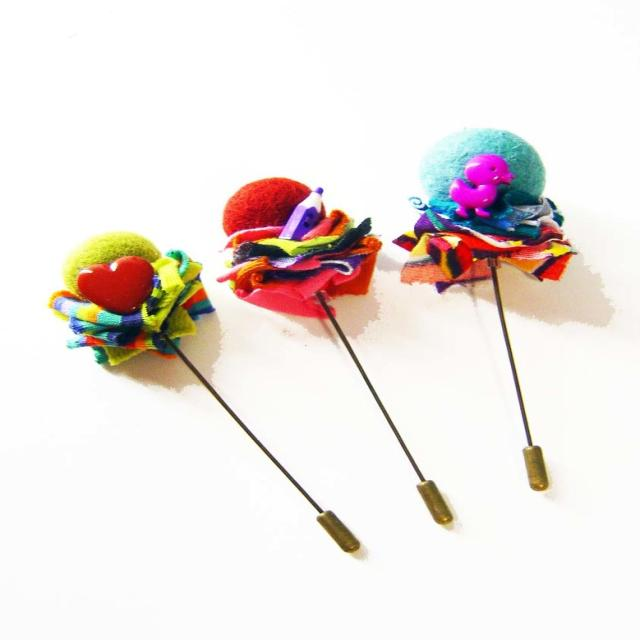Toy: (448, 152, 518, 219)
